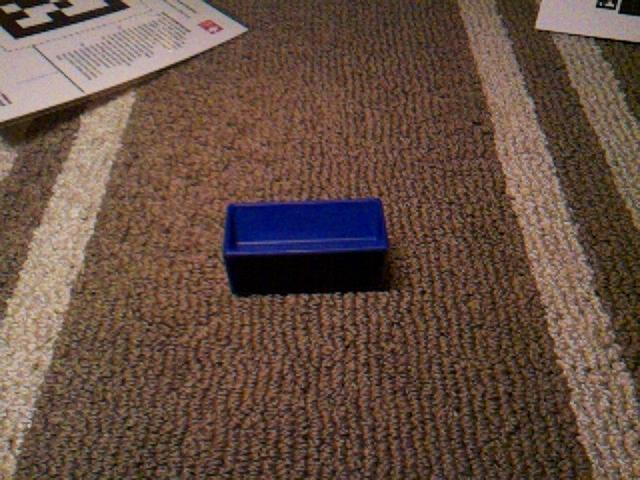blue: (222, 196, 391, 298)
